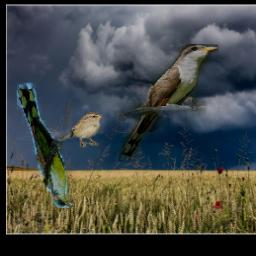Cuckoo: (120, 45, 219, 163), (18, 84, 74, 208)
Sparrow: (57, 113, 103, 148)
